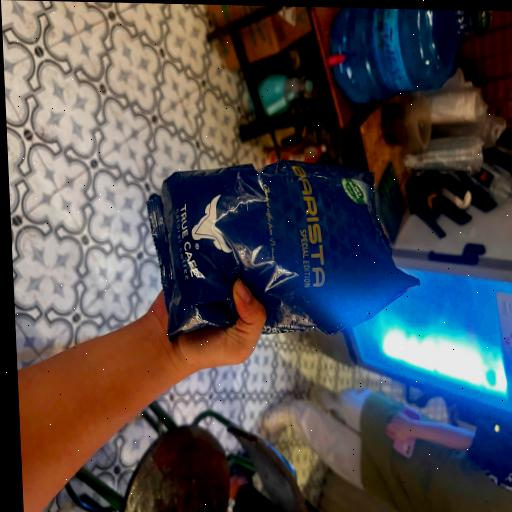cafe_hat: (147, 160, 419, 339)
